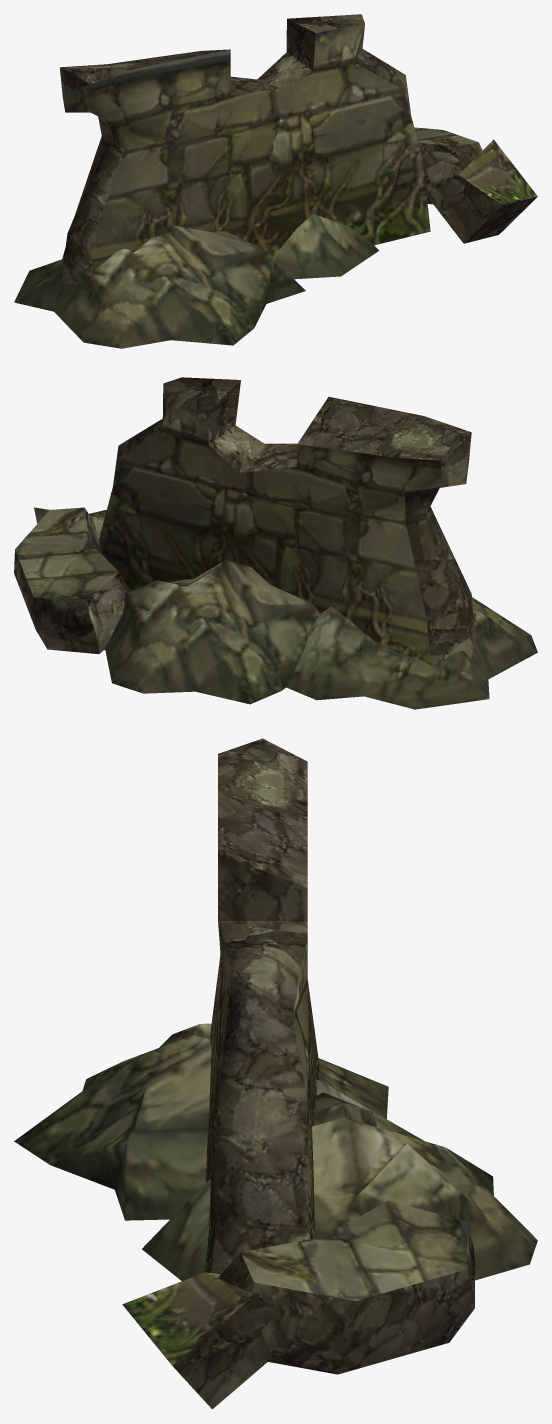
The picture shows the model from 3 angles, top to bottom: view 1: azimuth 30°, elevation 25°; view 2: azimuth 150°, elevation 25°; view 3: azimuth 270°, elevation 25°; orthographic projection. The views are drawn at different scales.
Visible parts, largest first — view 1: DN_lv3_sd_bd19; view 2: DN_lv3_sd_bd19; view 3: DN_lv3_sd_bd19.
Part boxes in pixels (x1,y1,x2,y2): DN_lv3_sd_bd19: (14, 14, 537, 348); DN_lv3_sd_bd19: (14, 377, 537, 709); DN_lv3_sd_bd19: (14, 738, 537, 1409).
Size of the model in its own units: 590 by 299 by 381.
